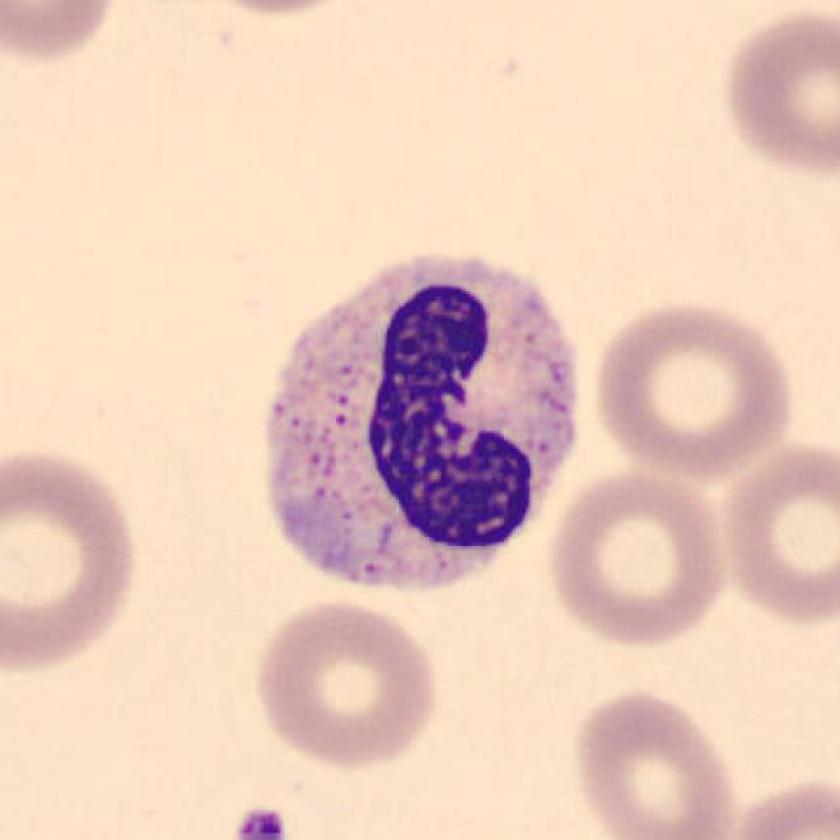neutrophil: (258, 254, 577, 589)
